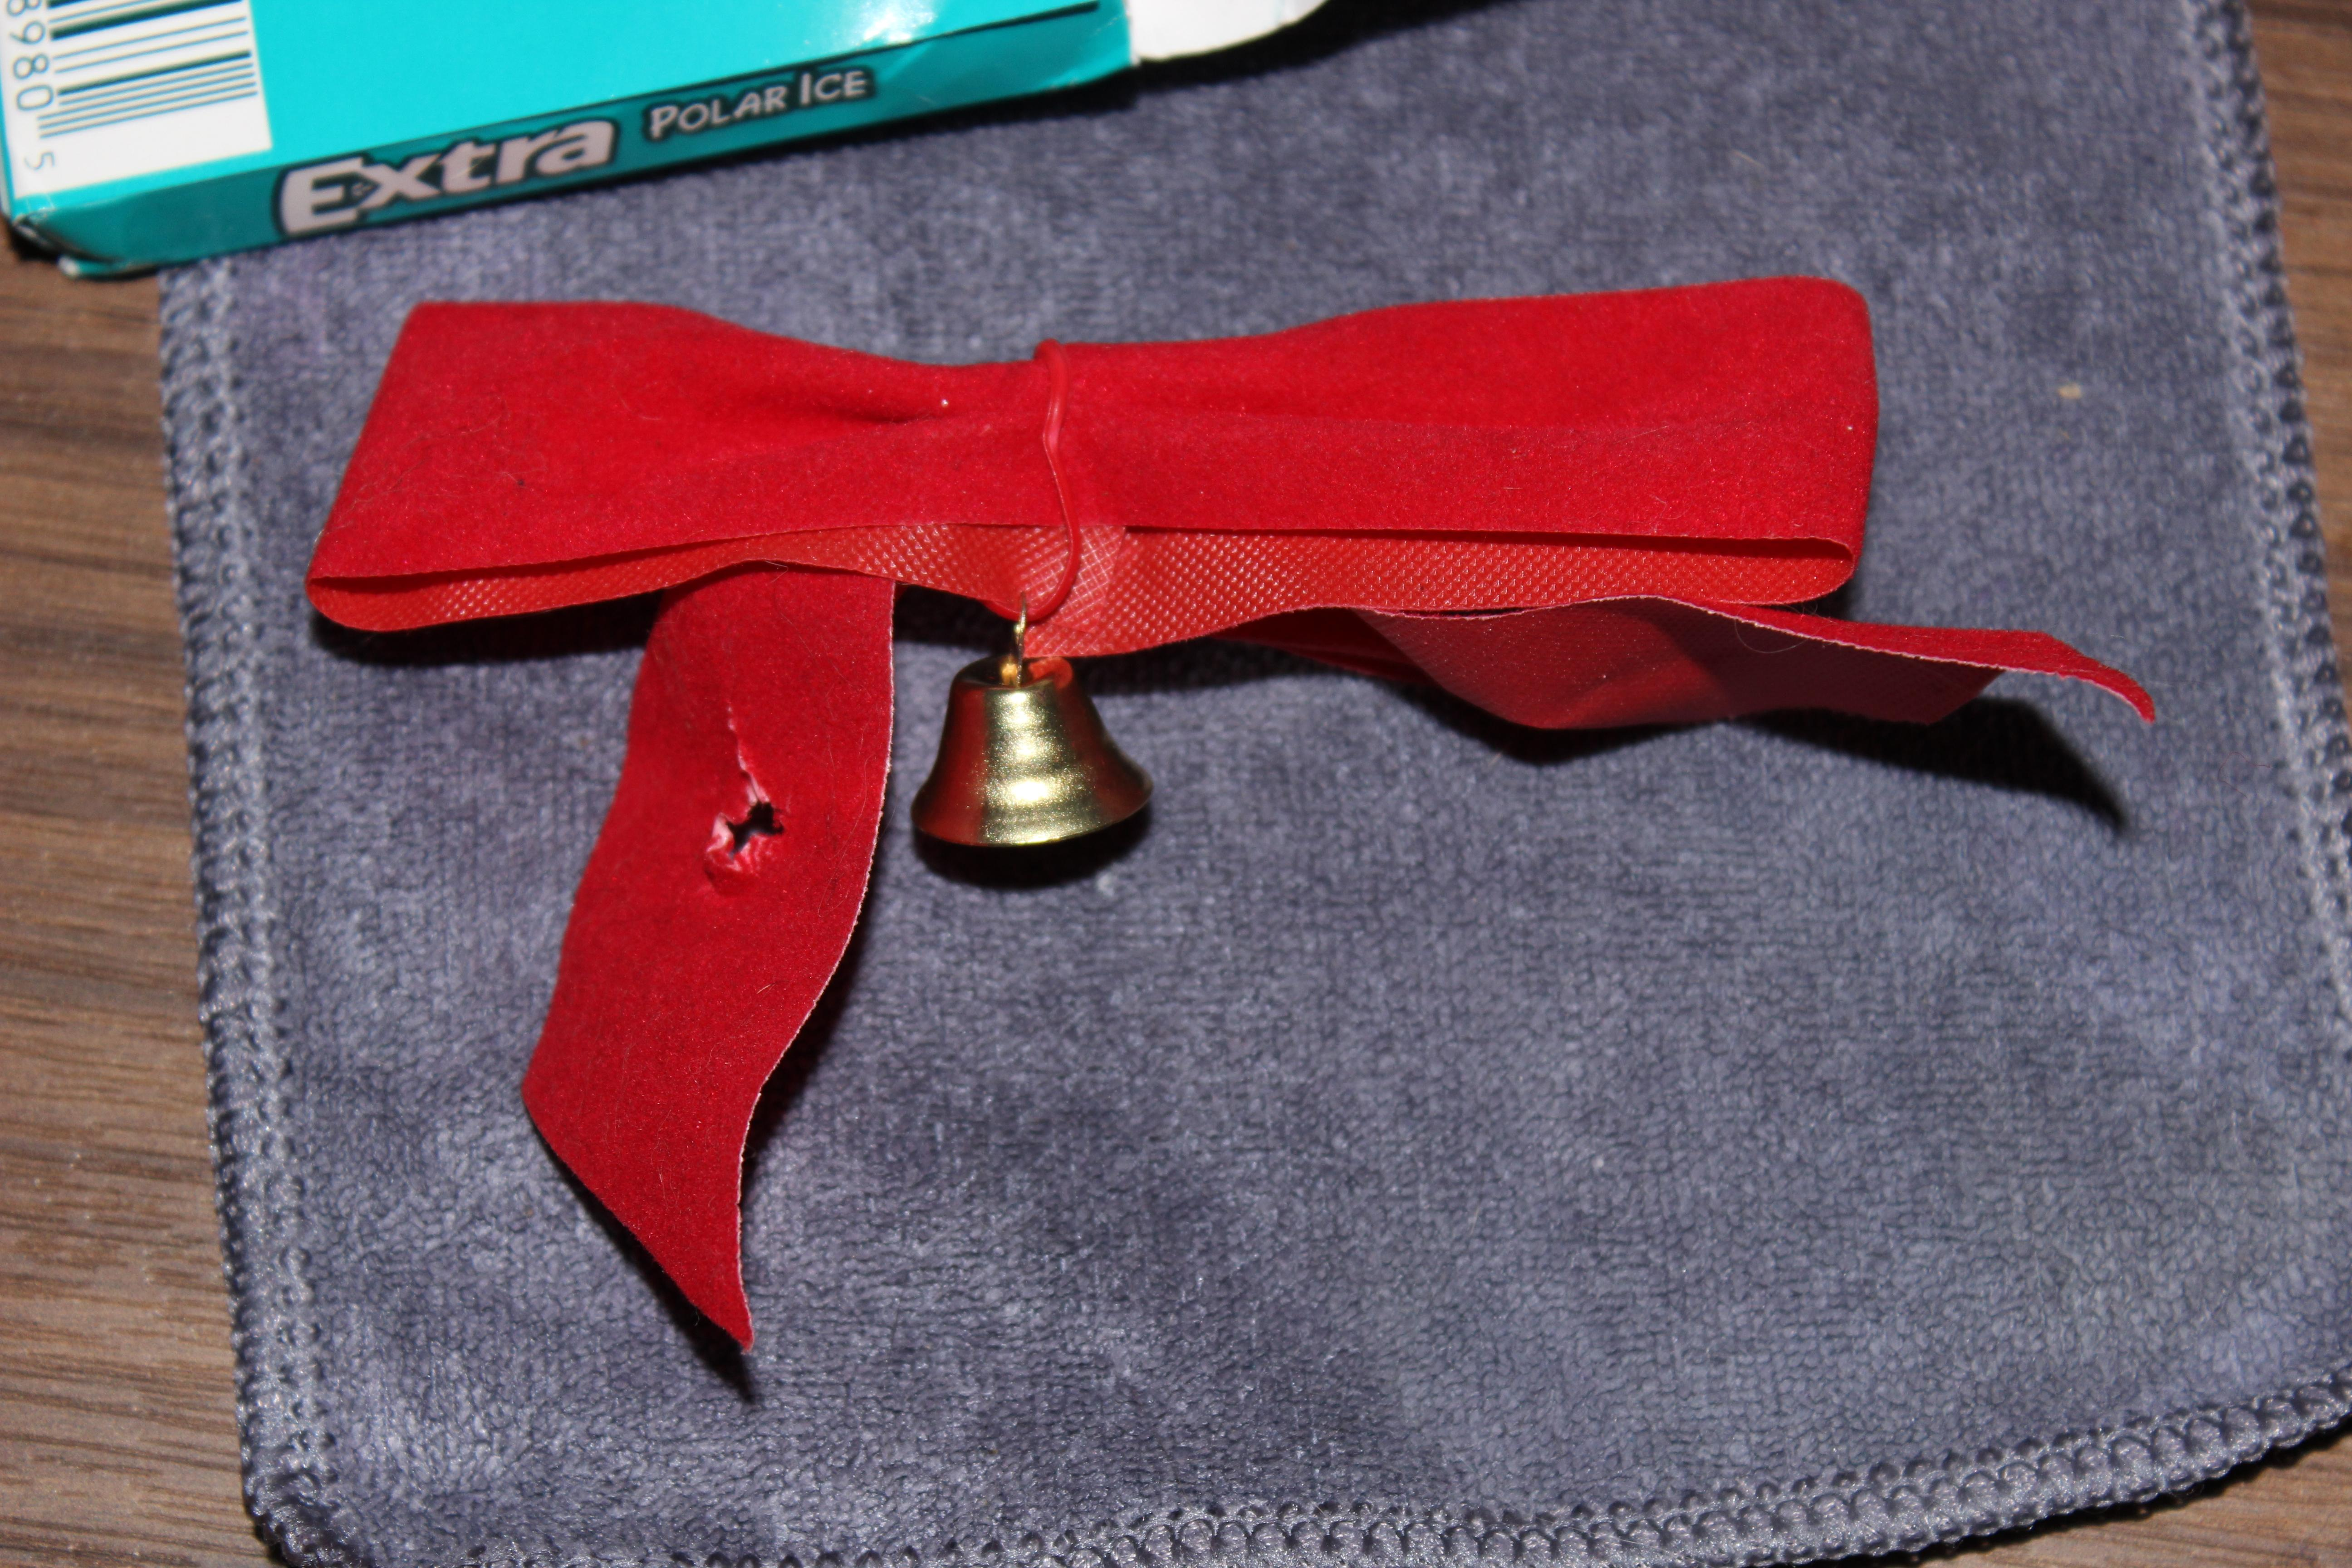redBow: (271, 259, 2210, 1442)
